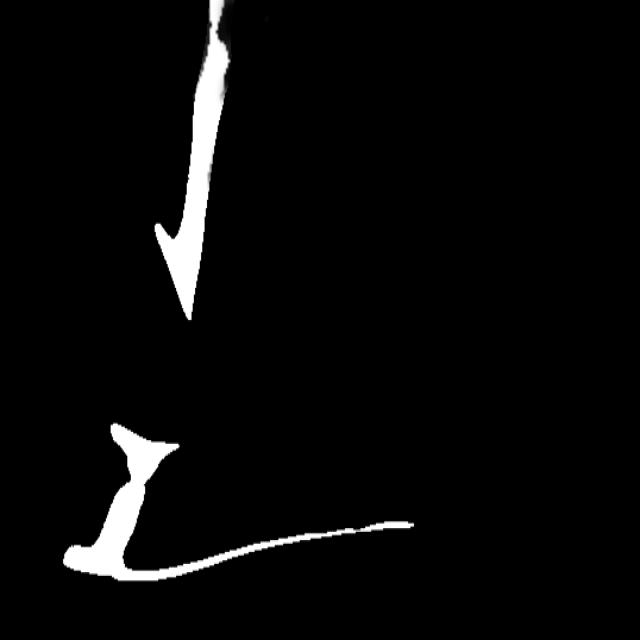sl: (198, 0, 237, 65)
